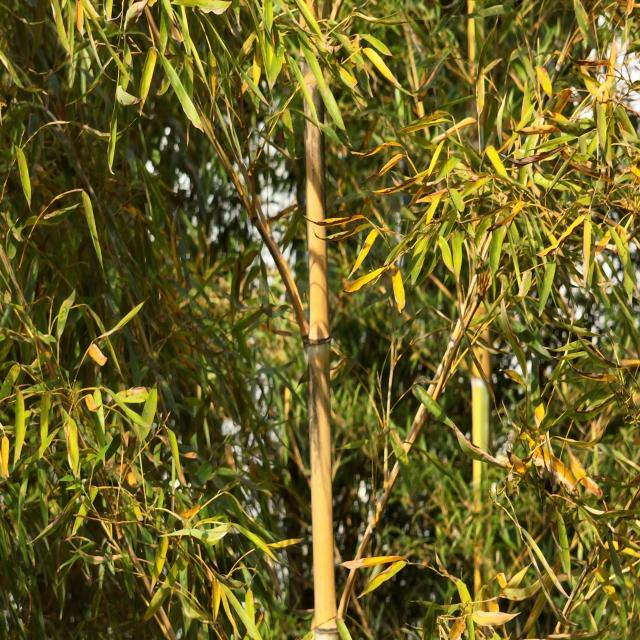Bamboo-shoots: (300, 0, 341, 640)
